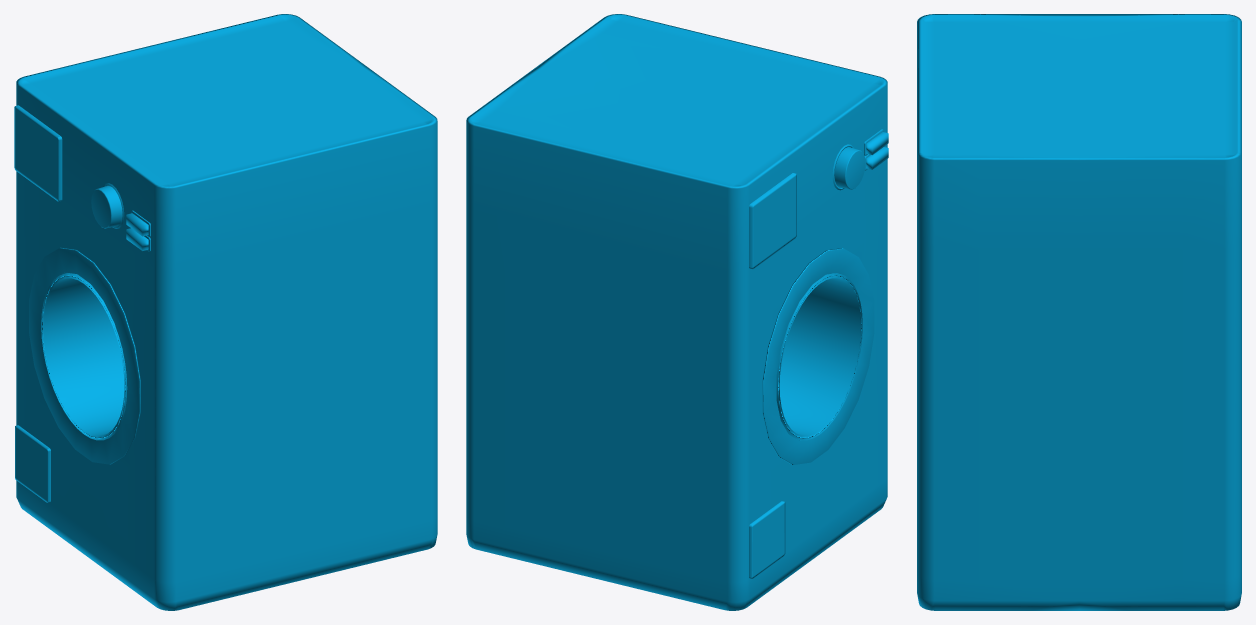
The model's file is Washing_Machine_Lod1.fbx.
The picture shows the model from 3 angles, left to right: view 1: azimuth 30°, elevation 25°; view 2: azimuth 150°, elevation 25°; view 3: azimuth 270°, elevation 25°; orthographic projection. The views are drawn at different scales.
Visible parts, largest first — view 1: Washing_Machine_Lod1; view 2: Washing_Machine_Lod1; view 3: Washing_Machine_Lod1.
Boxes of the visible parts, left/top/right/bottom form: Washing_Machine_Lod1: left=14, top=14, right=437, bottom=610; Washing_Machine_Lod1: left=466, top=14, right=888, bottom=610; Washing_Machine_Lod1: left=917, top=14, right=1241, bottom=610.
Size of the model in its own units: 66.8 by 92.39 by 60.15.
